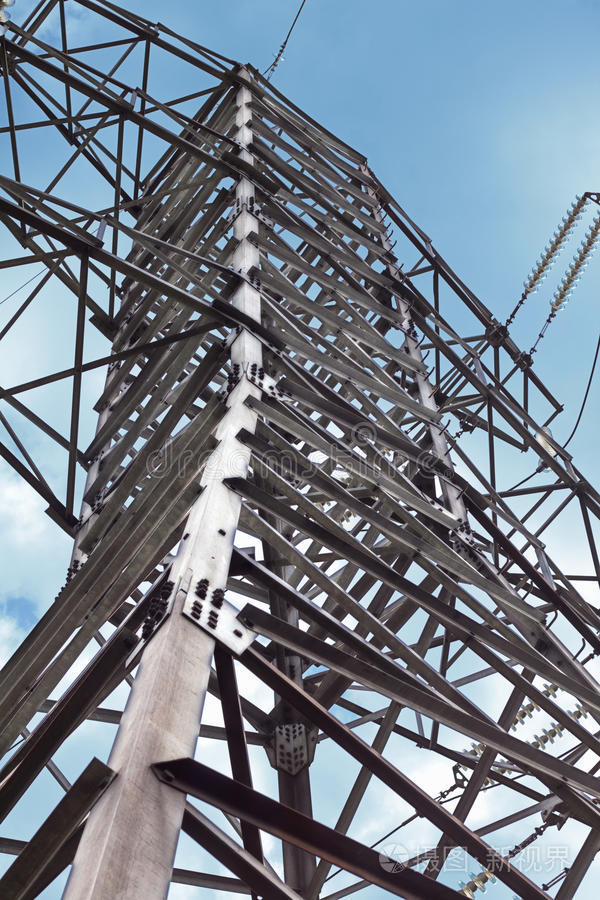insulator: (526, 190, 599, 313), (504, 687, 556, 733), (530, 708, 584, 747), (462, 866, 490, 894)
